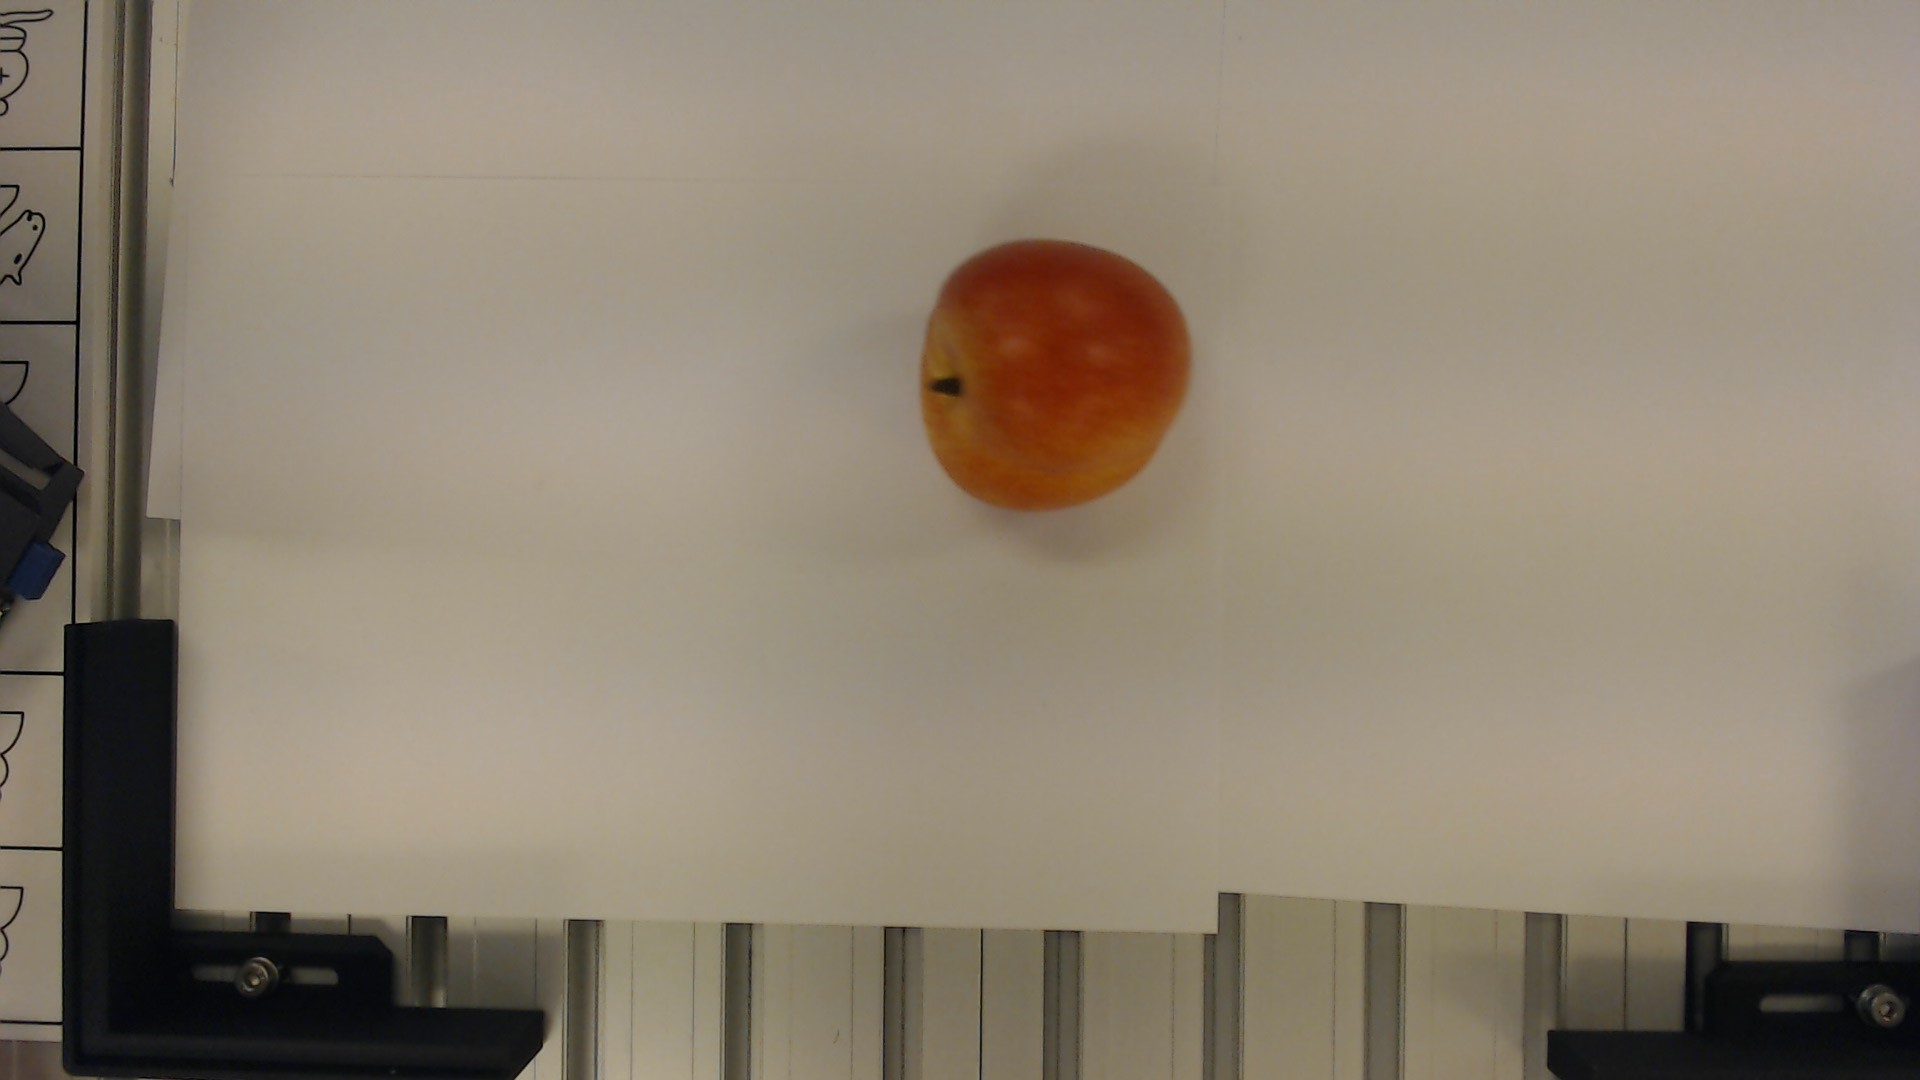Peach: (913, 232, 1208, 512)
